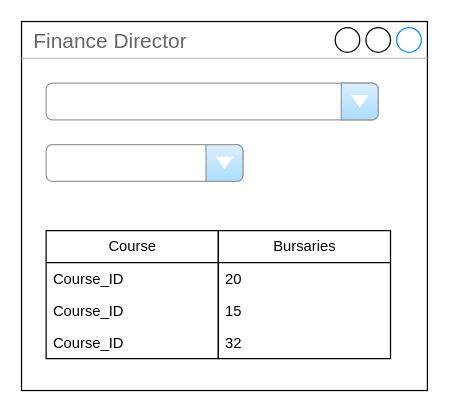
This 449x412 diagram has some shape labels left out. The shapes that lost their labels are listed below. From the top down, each one's centre as x and y in pixels, then its label:
At point 211,101: "Students with bursaries".
At point 144,162: "Department_ID".
